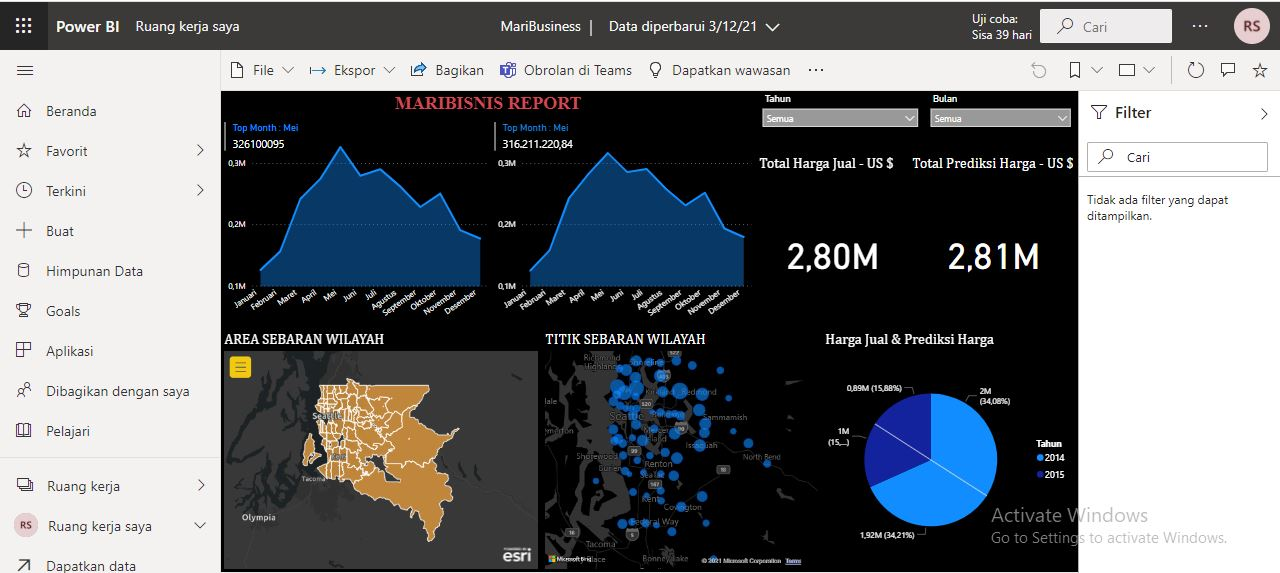

The page's visual inventory and layout, read from the dashboard file:
{"tool":"powerbi","page":{"name":"Halaman 1","canvas":[1280,720],"ordinal":0},"visuals":[{"type":"map","title":"TITIK SEBARAN WILAYAH","fields":{"Category":["MariBisnis_Scored_Model.zipcode"],"Size":["Sum(MariBisnis_Scored_Model.price)"]},"box":[479.8,360.3,417.2,360.3],"z":0},{"type":"card","title":"Total Prediksi Harga - US $","fields":{"Values":["Sum(MariBisnis_Scored_Model.Scored Labels)"]},"box":[1027.8,96.7,252.2,263.6],"z":1000},{"type":"card","title":"Total Harga Jual - US $","fields":{"Values":["Sum(MariBisnis_Scored_Model.price)"]},"box":[798.3,96.7,229.5,263.6],"z":2000},{"type":"slicer","fields":{"Values":["MariBisnis_Scored_Model.date.Variasi.Hierarki Tanggal.Bulan"]},"box":[1050.5,0,229.5,96.7],"z":3000},{"type":"slicer","fields":{"Values":["MariBisnis_Scored_Model.date.Variasi.Hierarki Tanggal.Tahun"]},"box":[798.3,0,252.2,96.7],"z":4000},{"type":"areaChart","fields":{"Y":["Sum(MariBisnis_Scored_Model.price)"],"Category":["MariBisnis_Scored_Model.date.Variasi.Hierarki Tanggal.Bulan"]},"box":[0,49.3,403.9,311],"z":5000},{"type":"pieChart","title":"Harga Jual & Prediksi Harga","fields":{"Y":["Sum(MariBisnis_Scored_Model.price)","Sum(MariBisnis_Scored_Model.Scored Labels)"],"Category":["MariBisnis_Scored_Model.date.Variasi.Hierarki Tanggal.Tahun"]},"box":[896.9,360.3,383.1,360.3],"z":6000},{"type":"areaChart","fields":{"Y":["Sum(MariBisnis_Scored_Model.Scored Labels)"],"Category":["MariBisnis_Scored_Model.date.Variasi.Hierarki Tanggal.Bulan"]},"box":[403.9,49.3,394.4,311],"z":7000},{"type":"multiRowCard","fields":{"Values":["MariBisnis_Scored_Model.Top Month","Sum(MariBisnis_Scored_Model.price)"]},"box":[0,43.6,149.8,53.1],"z":8000},{"type":"multiRowCard","fields":{"Values":["MariBisnis_Scored_Model.Top Month","Sum(MariBisnis_Scored_Model.Scored Labels)"]},"box":[403.9,43.6,149.8,53.1],"z":9000},{"type":"textbox","box":[0,0,798.3,43.6],"z":10000},{"type":"esriVisual","title":"AREA SEBARAN WILAYAH","fields":{"Location":["MariBisnis_Scored_Model.zipcode"],"Size":["Sum(MariBisnis_Scored_Model.price)"],"Color":["Sum(MariBisnis_Scored_Model.Scored Labels)"]},"box":[0,360.3,477.9,360.3],"z":11000}]}

Visuals, with their boxes on the page's 1280x720 design canvas (x1, y1, x2, y2). These are canvas units, not pixel positions in the 1280x573 screenshot, which may show the page scaled, cropped or inside an application window:
"TITIK SEBARAN WILAYAH" map: [480,360,897,721]
"Total Prediksi Harga - US $" card: [1028,97,1280,360]
"Total Harga Jual - US $" card: [798,97,1028,360]
slicer - MariBisnis_Scored_Model.date.Variasi.Hierarki Tanggal.Bulan: [1050,0,1280,97]
slicer - MariBisnis_Scored_Model.date.Variasi.Hierarki Tanggal.Tahun: [798,0,1050,97]
areaChart - Sum(MariBisnis_Scored_Model.price) x MariBisnis_Scored_Model.date.Variasi.Hierarki Tanggal.Bulan: [0,49,404,360]
"Harga Jual & Prediksi Harga" pieChart: [897,360,1280,721]
areaChart - Sum(MariBisnis_Scored_Model.Scored Labels) x MariBisnis_Scored_Model.date.Variasi.Hierarki Tanggal.Bulan: [404,49,798,360]
multiRowCard - MariBisnis_Scored_Model.Top Month x Sum(MariBisnis_Scored_Model.price): [0,44,150,97]
multiRowCard - MariBisnis_Scored_Model.Top Month x Sum(MariBisnis_Scored_Model.Scored Labels): [404,44,554,97]
textbox: [0,0,798,44]
"AREA SEBARAN WILAYAH" esriVisual: [0,360,478,721]
